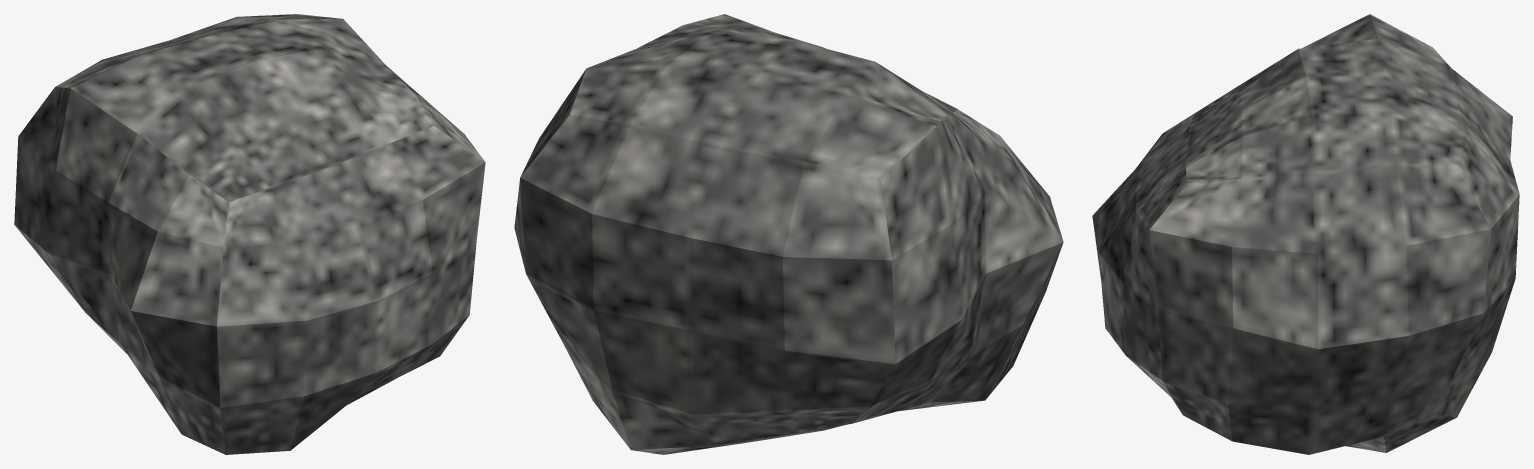
Rendered from SM_EC_Rock_13.fbx.
3 views of the same model, side by side, from view 1: azimuth 30°, elevation 25°; view 2: azimuth 150°, elevation 25°; view 3: azimuth 270°, elevation 25° (orthographic). The views are drawn at different scales.
Parts seen in each view (by area): view 1: SM_EC_Rock_13; view 2: SM_EC_Rock_13; view 3: SM_EC_Rock_13.
Part boxes in pixels (x1=…): SM_EC_Rock_13: x1=14, y1=14, x2=485, y2=454; SM_EC_Rock_13: x1=514, y1=14, x2=1063, y2=454; SM_EC_Rock_13: x1=1092, y1=14, x2=1519, y2=454.
Size of the model in its own units: 0.5672 by 0.5319 by 0.4707.
